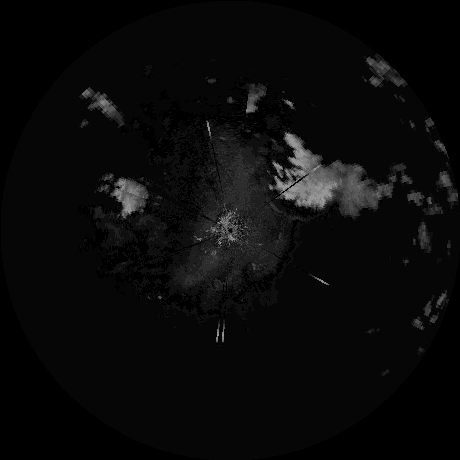frontgust: (264, 187, 303, 221)
